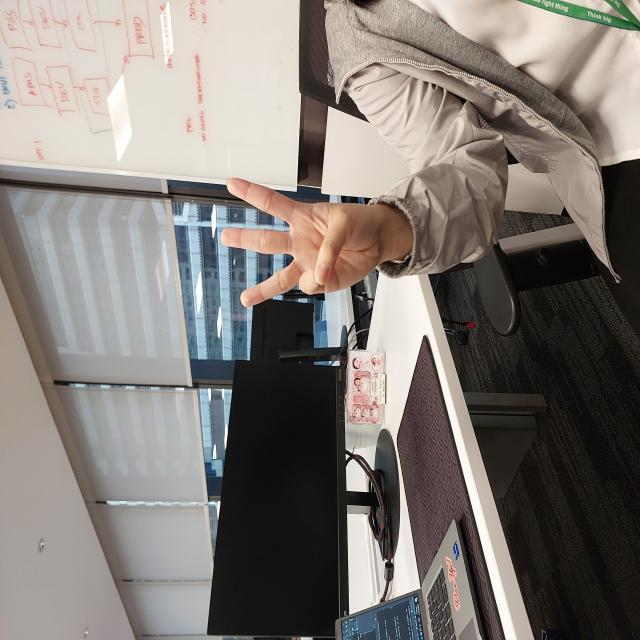W: (333, 220, 462, 380)
